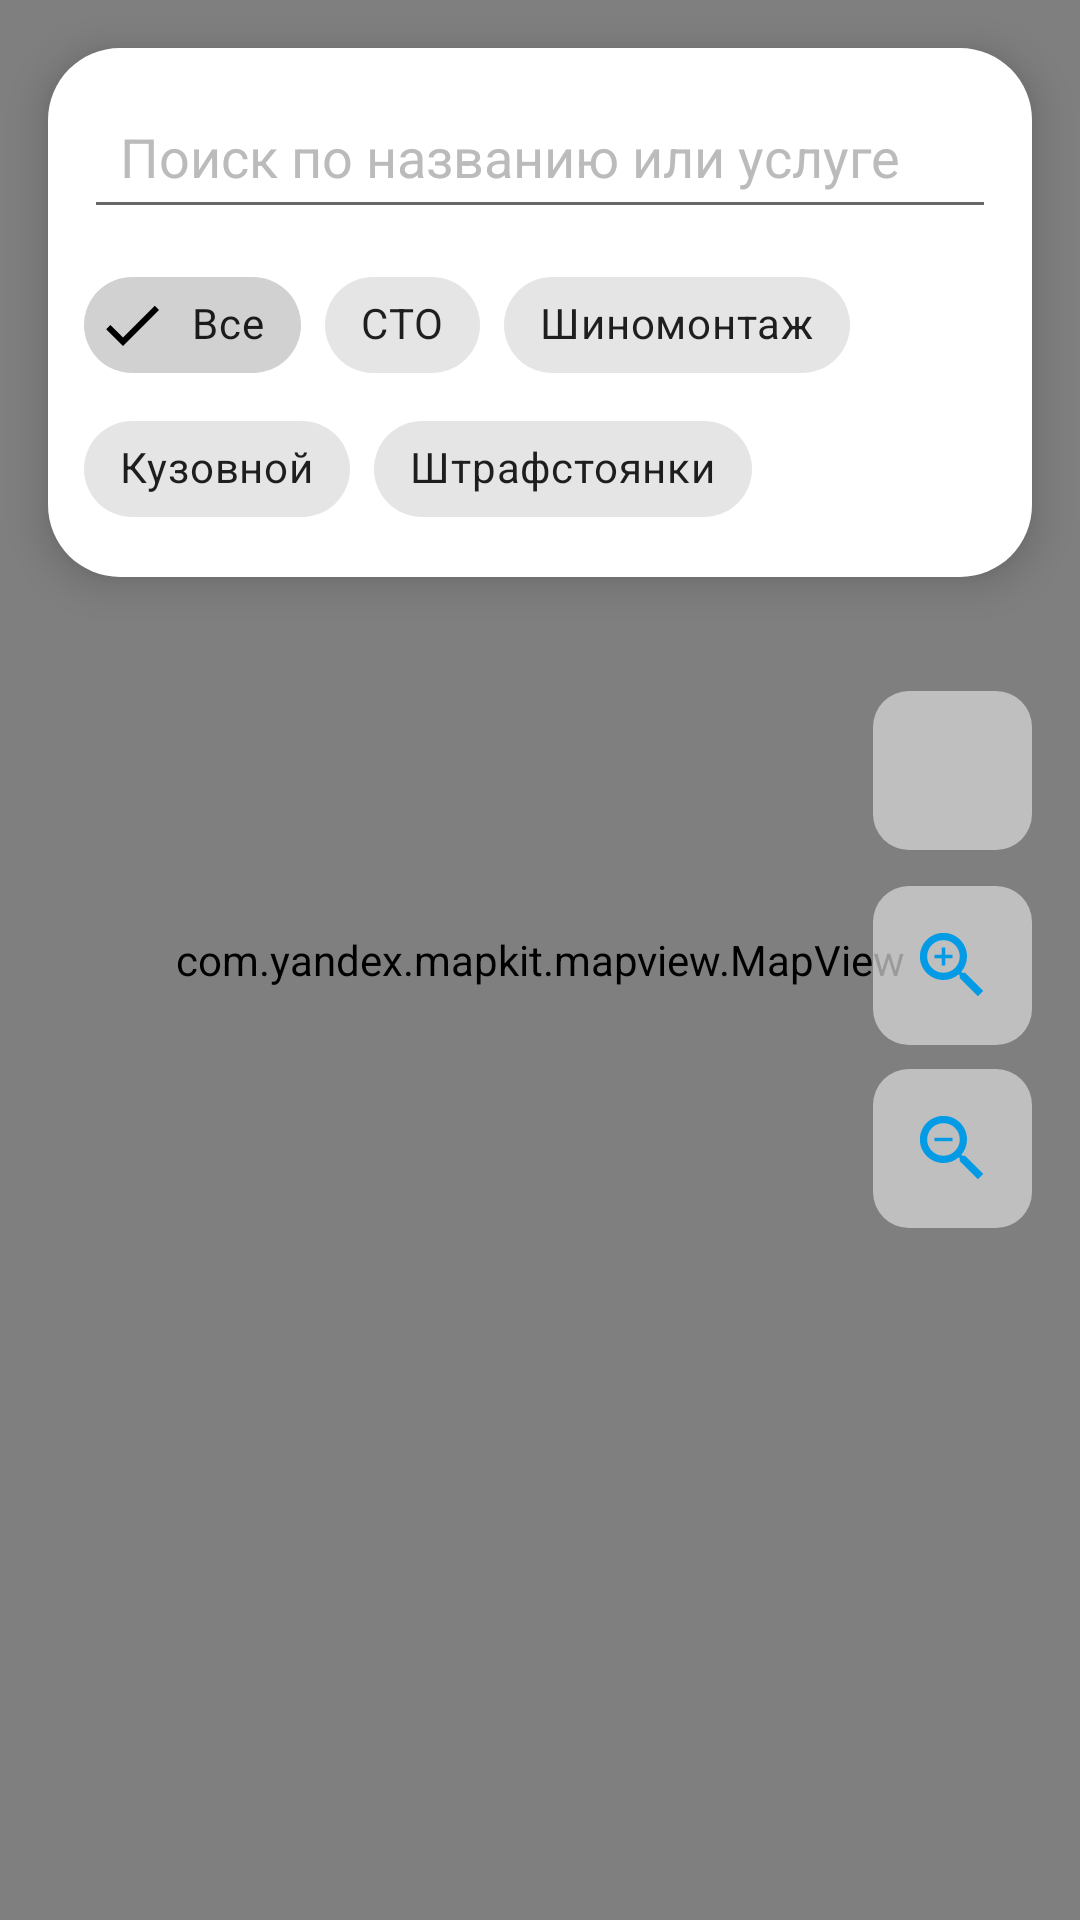

Named icons in this screenshot (1080*1920) and their centers, (x,y):
zoom in: (952,965)
zoom out: (952,1148)
